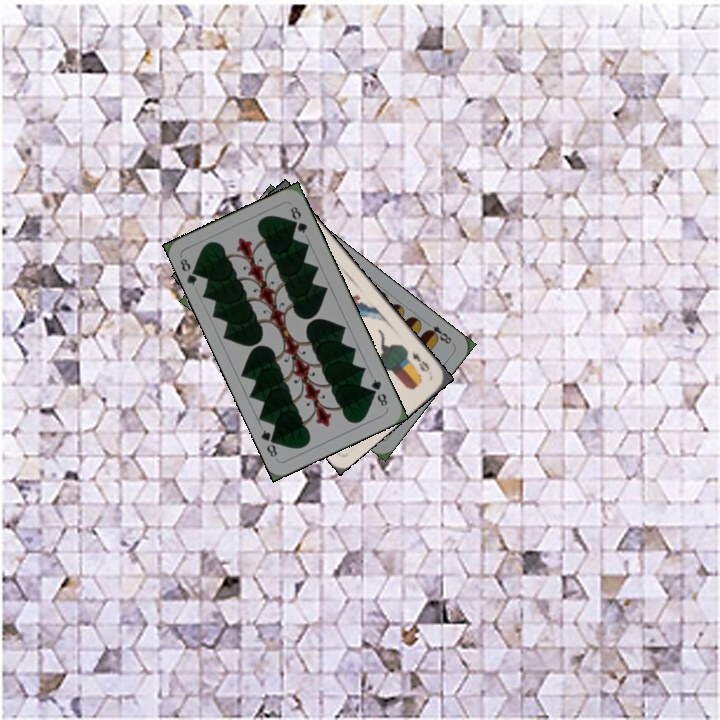E8: (422, 317, 456, 347)
EO: (402, 345, 434, 377)
G8: (176, 254, 203, 288), (367, 375, 390, 409)
